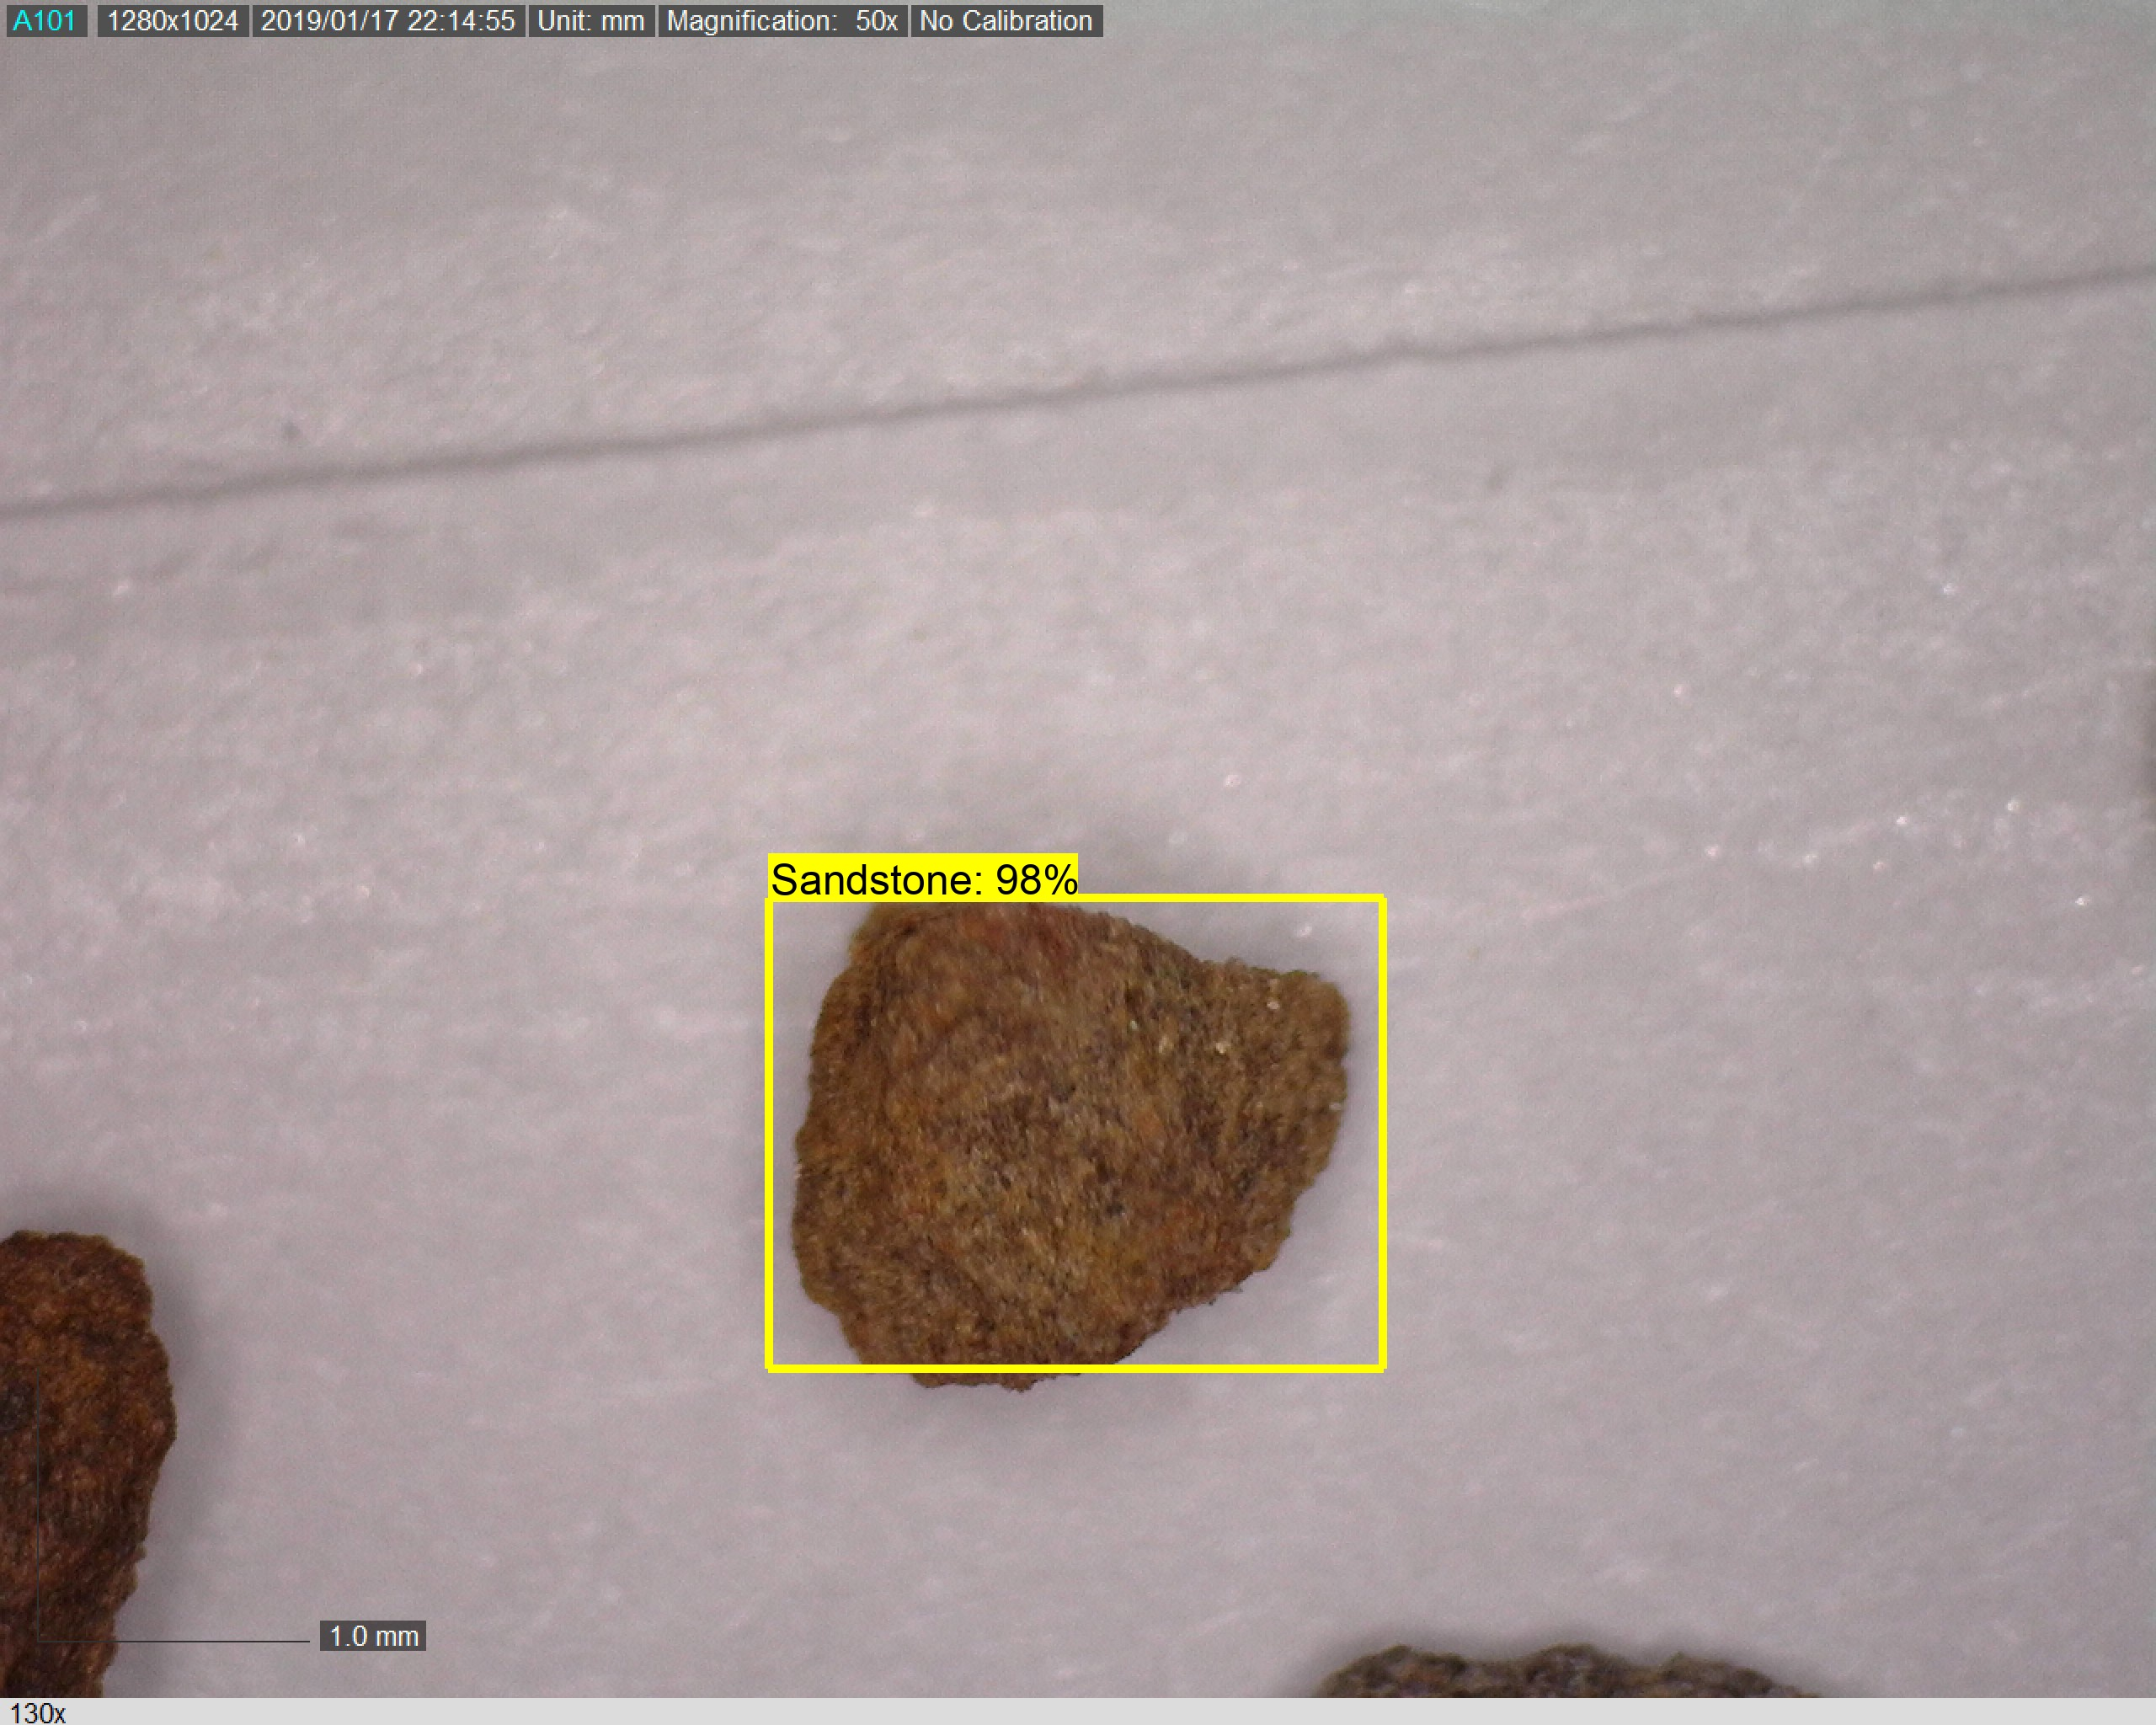Sandstone: (778, 889, 1360, 1398)
